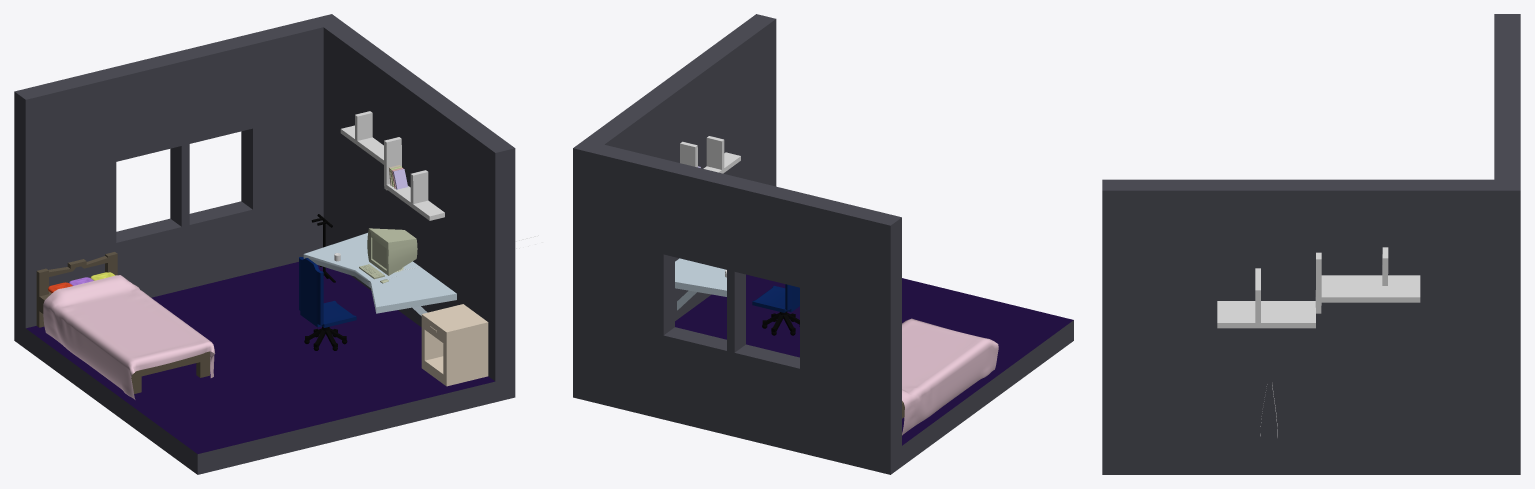
Rendered from Room.fbx.
3 renders of one model, left to right at view 1: azimuth 30°, elevation 25°; view 2: azimuth 150°, elevation 25°; view 3: azimuth 270°, elevation 25°, orthographic. The views are drawn at different scales.
Parts seen in each view (by area): view 1: Main.001, Ground, Blanket, tumbochka, table, Chair, bed, CRT, polka, Polka.001, Polka, Polka.002; view 2: Main.001, Ground, Blanket, table, Chair, Polka.002; view 3: Main.001, Polka, polka.
Part boxes in pixels (bbox=[...]): Main.001: bbox=[14, 14, 515, 474]; Ground: bbox=[26, 262, 494, 453]; Blanket: bbox=[43, 275, 215, 399]; tumbochka: bbox=[421, 304, 488, 386]; table: bbox=[303, 233, 456, 315]; Chair: bbox=[299, 257, 356, 350]; bed: bbox=[36, 252, 209, 393]; CRT: bbox=[367, 228, 417, 275]; polka: bbox=[386, 184, 444, 220]; Polka.001: bbox=[384, 137, 401, 190]; Polka: bbox=[340, 125, 383, 164]; Polka.002: bbox=[410, 170, 428, 204]; Main.001: bbox=[573, 14, 1073, 474]; Ground: bbox=[675, 274, 1073, 445]; Blanket: bbox=[902, 318, 998, 435]; table: bbox=[675, 258, 726, 310]; Chair: bbox=[752, 284, 799, 335]; Polka.002: bbox=[706, 136, 724, 169]; Main.001: bbox=[1102, 14, 1520, 474]; Polka: bbox=[1321, 275, 1420, 302]; polka: bbox=[1217, 301, 1315, 328].
Bounding box in the file's own units: 526 × 300 × 400.
